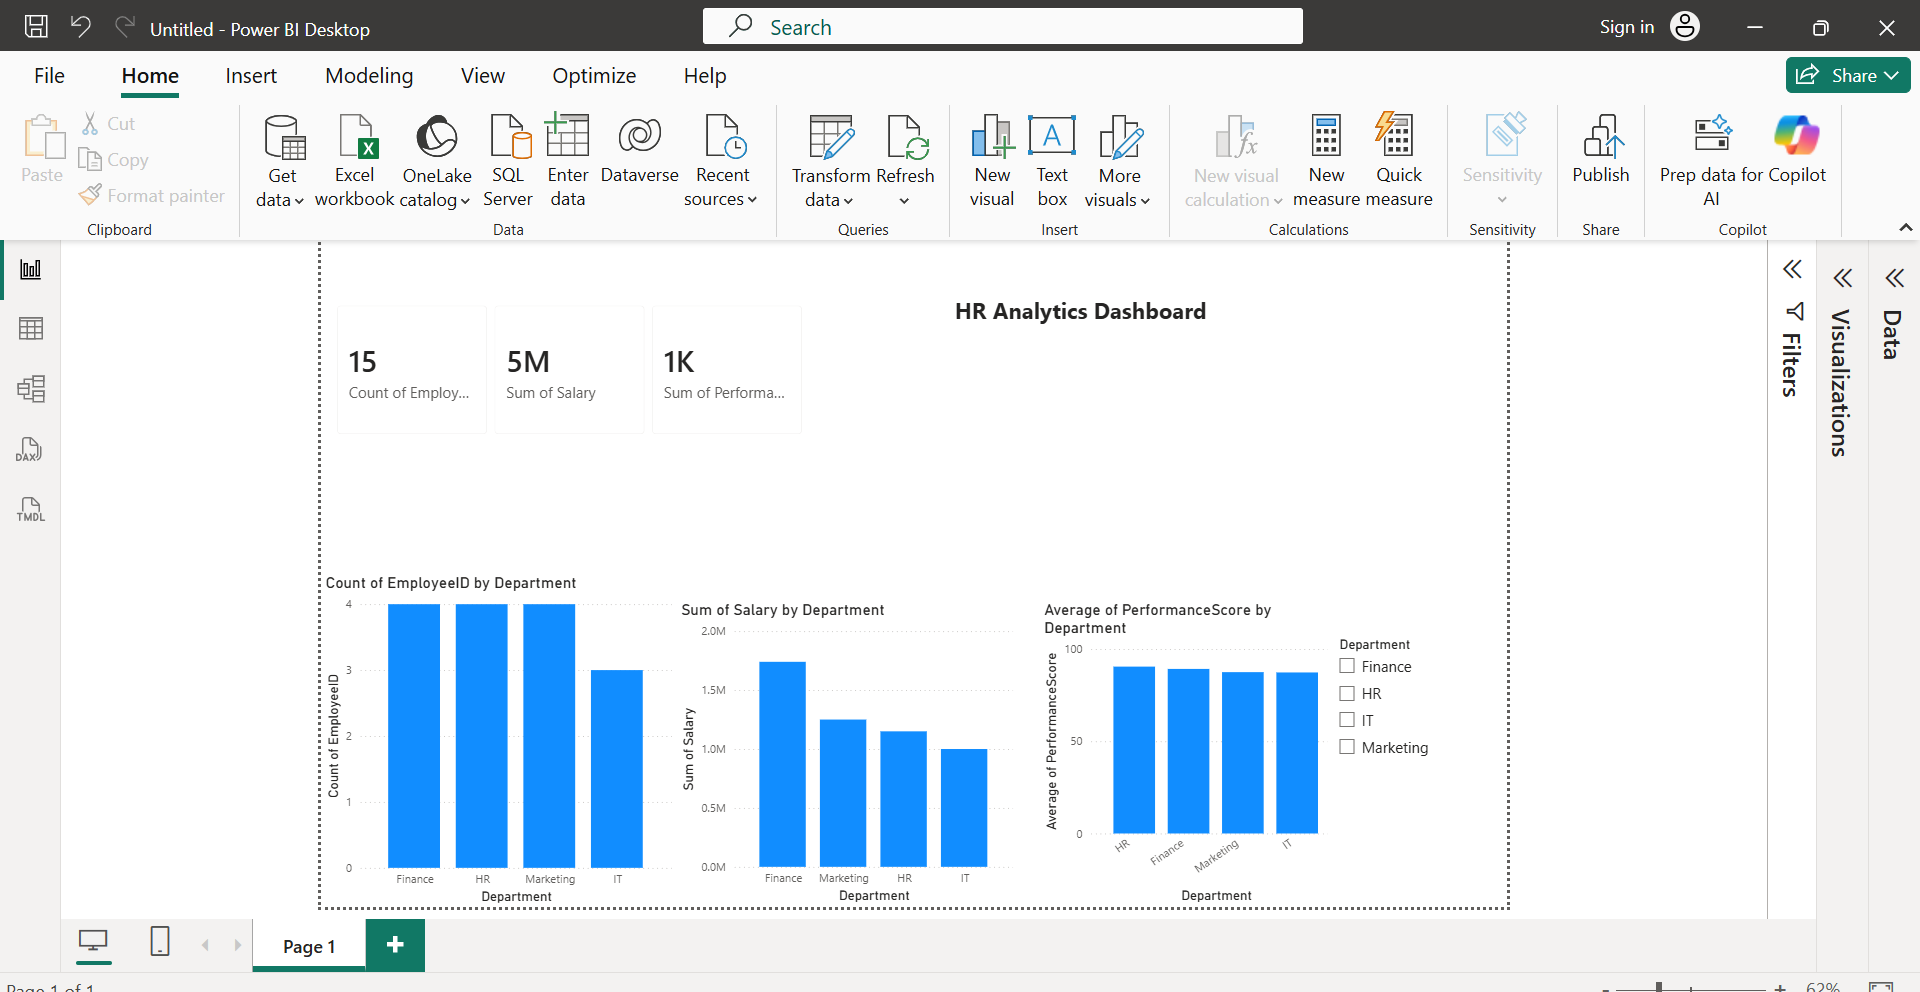

The dashboard page shown, as its layout file describes it:
{"tool":"powerbi","page":{"name":"Page 1","canvas":[1280,720],"ordinal":0},"visuals":[{"type":"clusteredColumnChart","fields":{"Y":["CountNonNull(Sheet1.EmployeeID)"],"Category":["Sheet1.Department"]},"box":[0,359.1,383.6,360.9],"z":0},{"type":"clusteredColumnChart","fields":{"Y":["Sum(Sheet1.Salary)"],"Category":["Sheet1.Department"]},"box":[383.6,389.3,368.5,330.7],"z":1},{"type":"clusteredColumnChart","fields":{"Y":["Avg(Sheet1.PerformanceScore)"],"Category":["Sheet1.Department"]},"box":[774.8,389.3,330.7,330.7],"z":2},{"type":"cardVisual","fields":{"Data":["CountNonNull(Sheet1.EmployeeID)","Sum(Sheet1.Salary)","Sum(Sheet1.PerformanceScore)"]},"box":[0,52.9,536.7,173.9],"z":3},{"type":"slicer","fields":{"Values":["Sheet1.Department"]},"box":[1086.6,423.3,192.8,296.7],"z":4},{"type":"textbox","box":[536.7,52.9,568.8,100.2],"z":5}]}

Visuals, with their boxes on the page's 1280x720 design canvas (x1, y1, x2, y2). These are canvas units, not pixel positions in the 1920x992 screenshot, which may show the page scaled, cropped or inside an application window:
clusteredColumnChart - CountNonNull(Sheet1.EmployeeID) x Sheet1.Department: rect(0, 359, 384, 720)
clusteredColumnChart - Sum(Sheet1.Salary) x Sheet1.Department: rect(384, 389, 752, 720)
clusteredColumnChart - Avg(Sheet1.PerformanceScore) x Sheet1.Department: rect(775, 389, 1106, 720)
cardVisual - CountNonNull(Sheet1.EmployeeID) x Sum(Sheet1.Salary): rect(0, 53, 537, 227)
slicer - Sheet1.Department: rect(1087, 423, 1279, 720)
textbox: rect(537, 53, 1106, 153)
